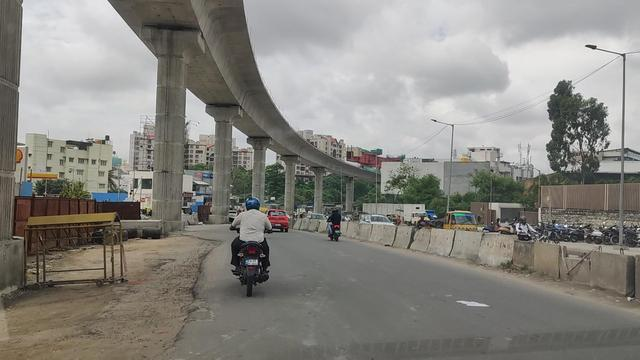LMV: (235, 199, 271, 296), (329, 207, 342, 244)
RoadDamages: (145, 286, 210, 360), (183, 232, 221, 283)
UnsurfacedRoad: (10, 284, 142, 360), (140, 238, 181, 278)
